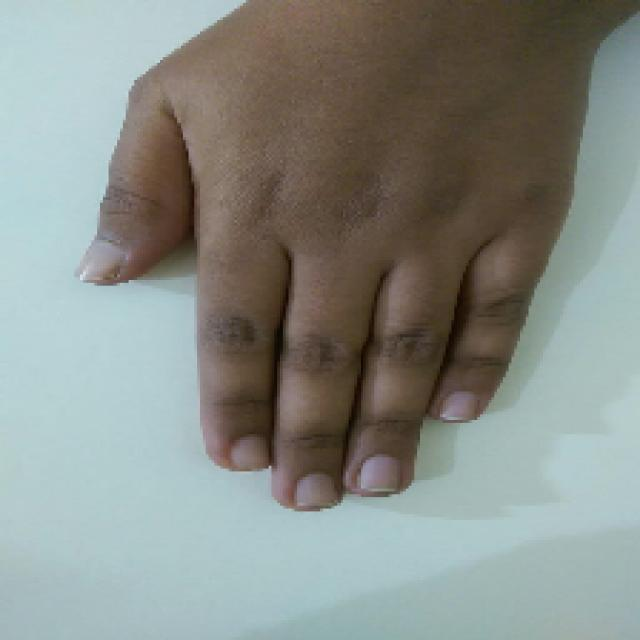Nail: (76, 239, 126, 285), (358, 454, 400, 495), (295, 472, 340, 510), (230, 434, 270, 470), (439, 391, 476, 421)
